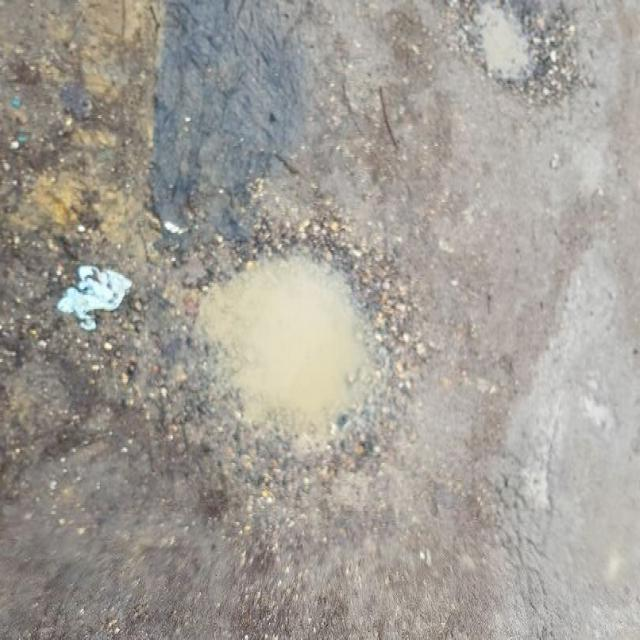Pothole: (182, 211, 413, 466), (453, 0, 581, 96)
